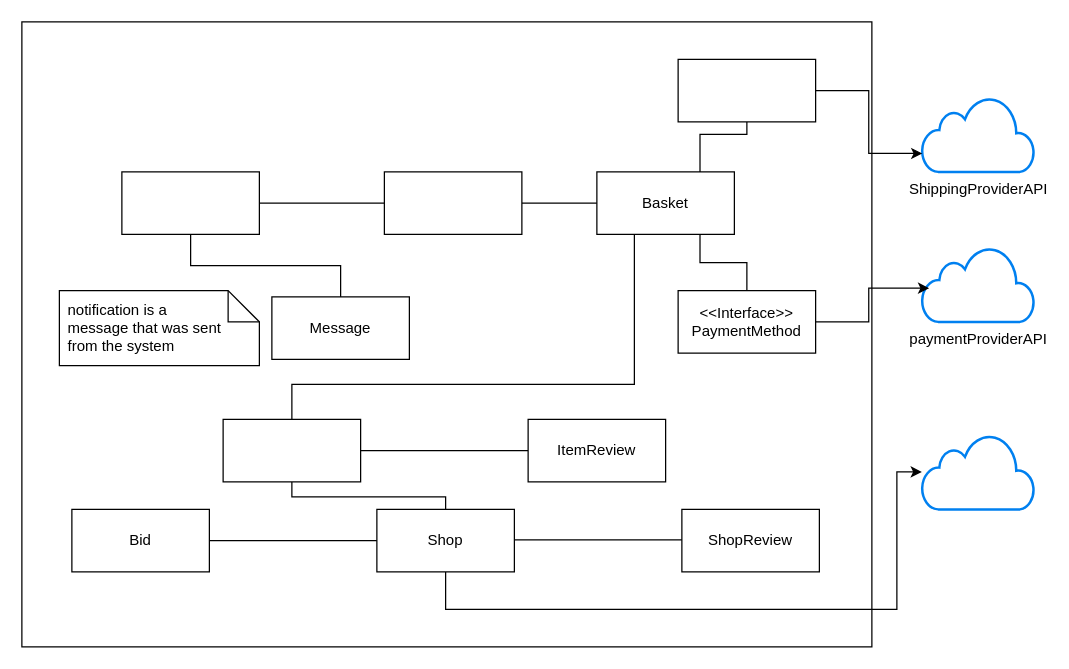
Some shapes in this 1069 by 669 pixel diagram are drawn without their labels. Each missing label, with the box of its shape:
<<Interface>> ShippingMethod: (677, 58, 816, 122)
ConstraintHandler: (920, 432, 1035, 510)
Item: (222, 418, 361, 482)
ShoppingCart: (383, 171, 522, 234)
User: (121, 171, 259, 234)
